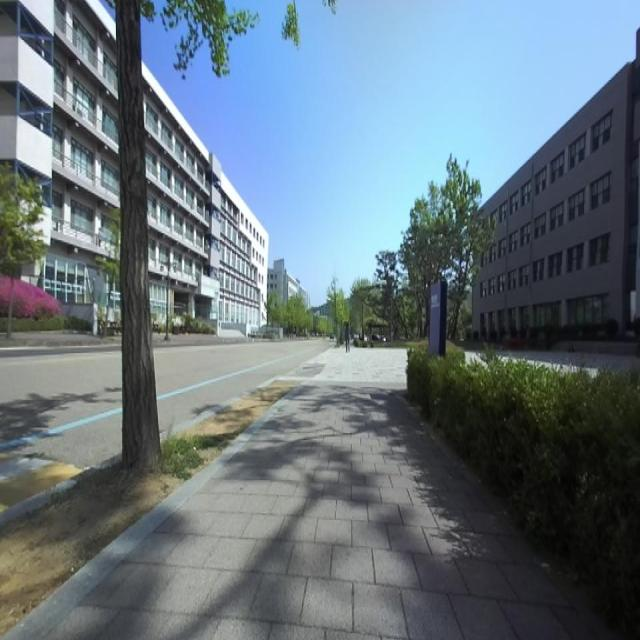sidewalk: (40, 349, 593, 640)
